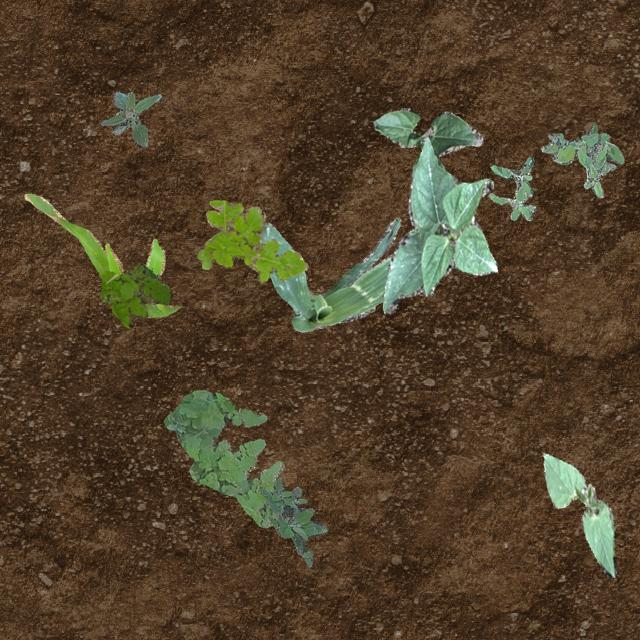crop: (382, 136, 496, 312), (24, 192, 180, 316), (258, 218, 399, 332), (542, 452, 616, 578), (372, 106, 482, 156)
weed: (162, 388, 284, 526), (196, 200, 306, 282), (258, 476, 326, 566), (540, 122, 622, 196), (99, 264, 172, 326), (100, 90, 160, 146), (486, 156, 534, 220)
